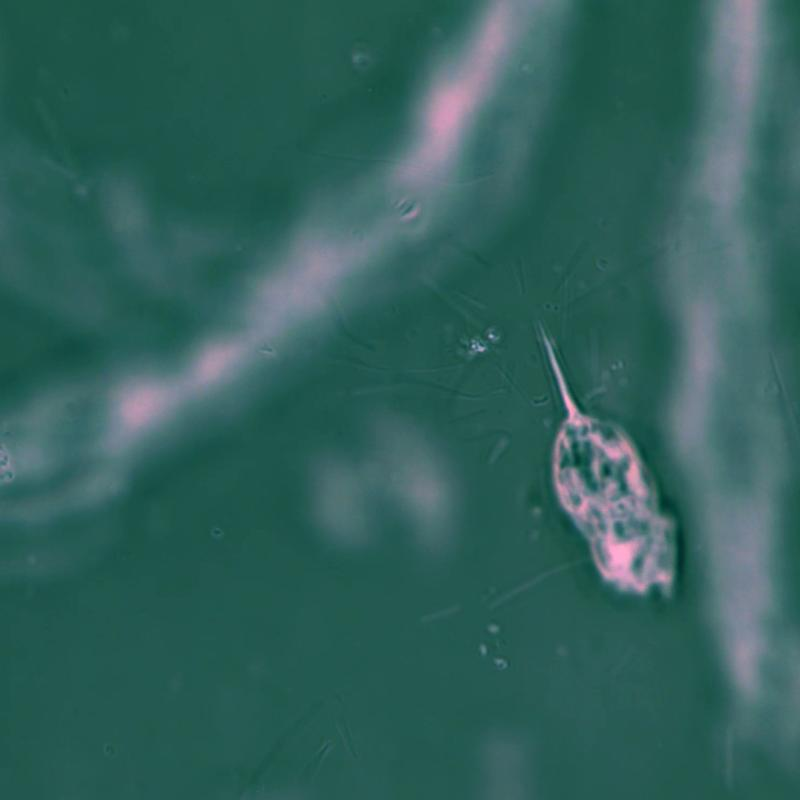depth:20: (471, 292, 702, 648)
